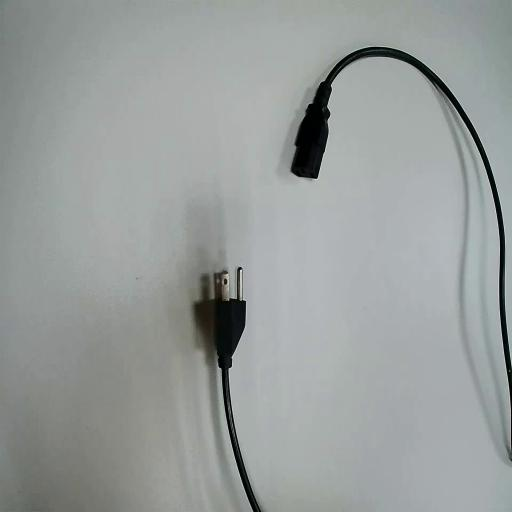wire: (291, 48, 511, 396), (195, 283, 260, 511)
